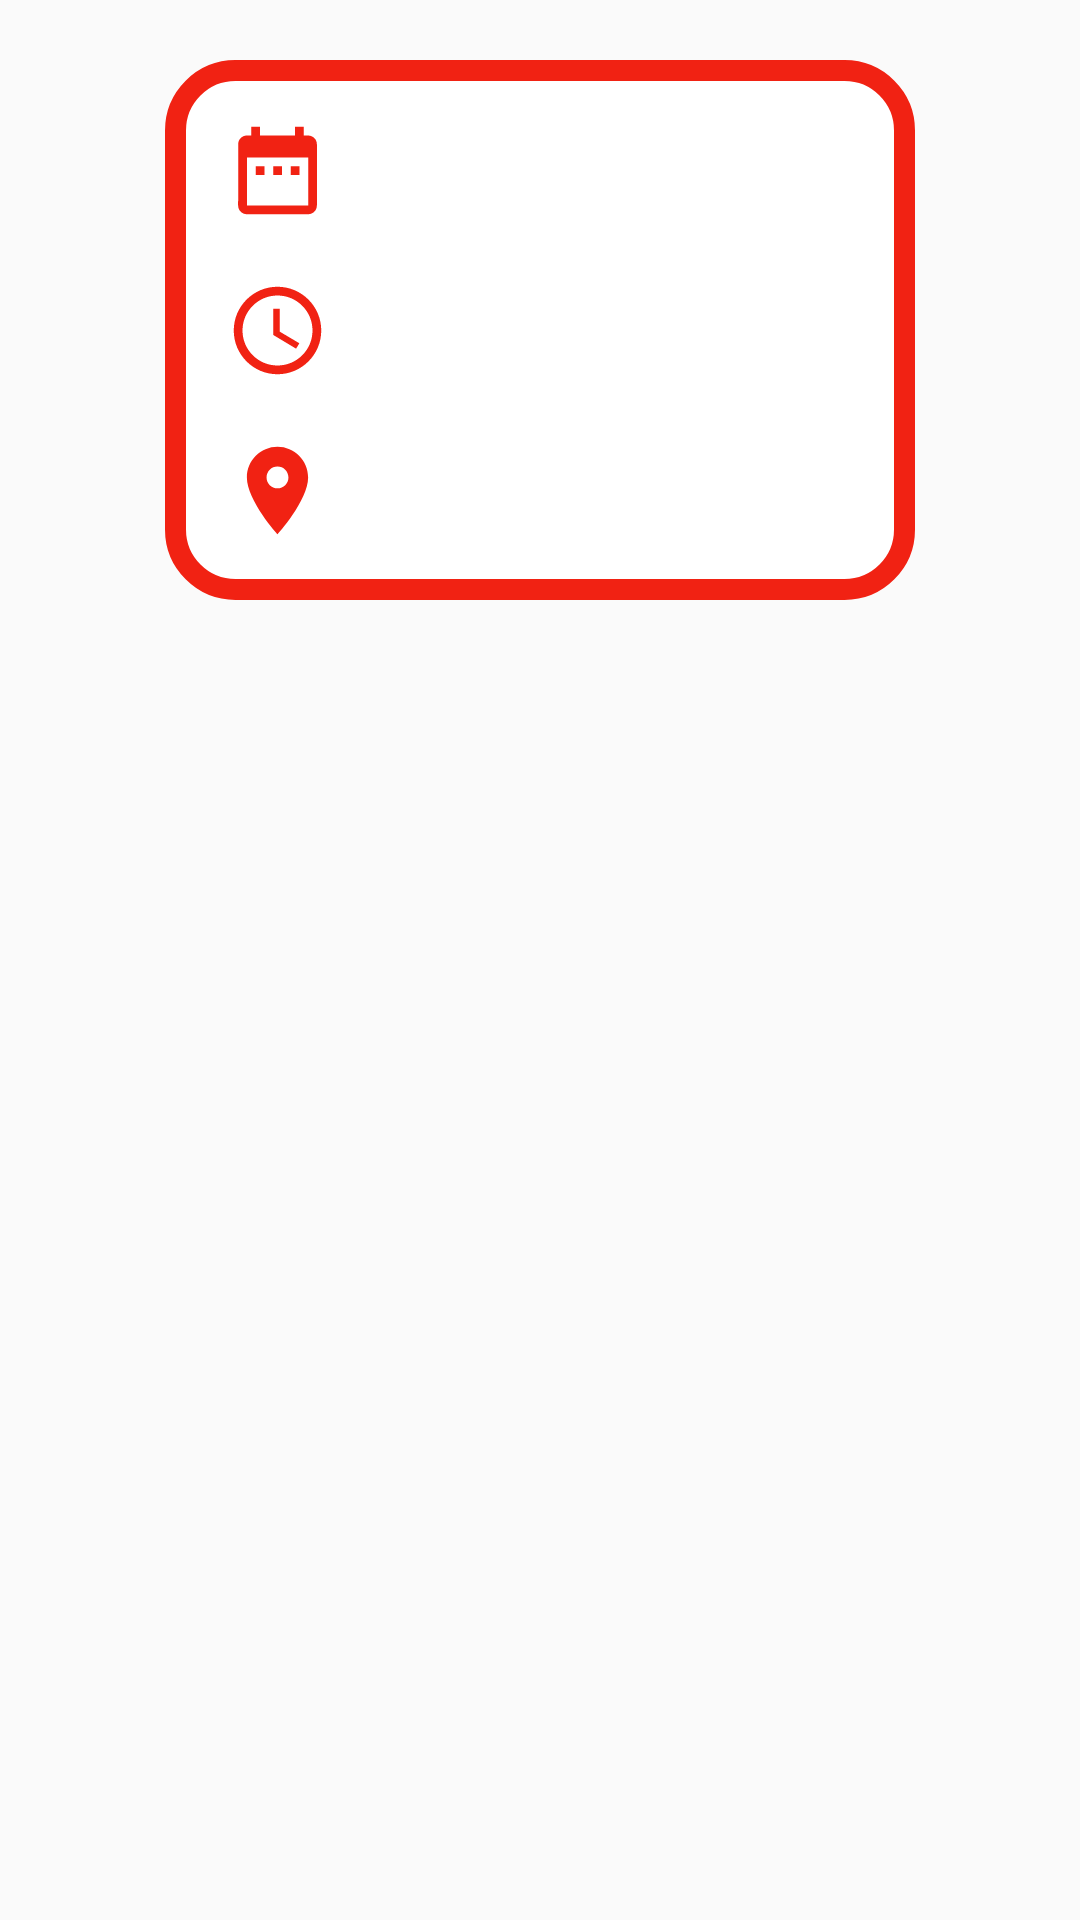

Screen size 1080px×1920px. Icon name, then its box in pixels as rect(x1, y1, x2, y2):
date range: rect(238, 126, 317, 215)
